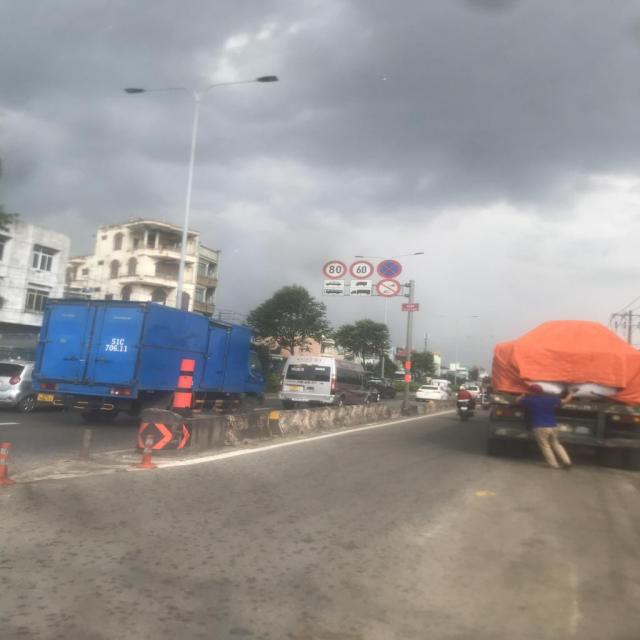cam_dung_xe_va_do_xe: (376, 260, 402, 278)
cam_xe_2_banh_va_xe_3_banh_co_dong_co: (375, 278, 401, 298)
khac: (349, 288, 372, 296), (323, 280, 345, 288), (322, 287, 344, 295), (350, 280, 372, 288)
toc_do_toi_da_60: (349, 261, 374, 280)
toc_do_toi_da_80: (323, 261, 347, 279)
